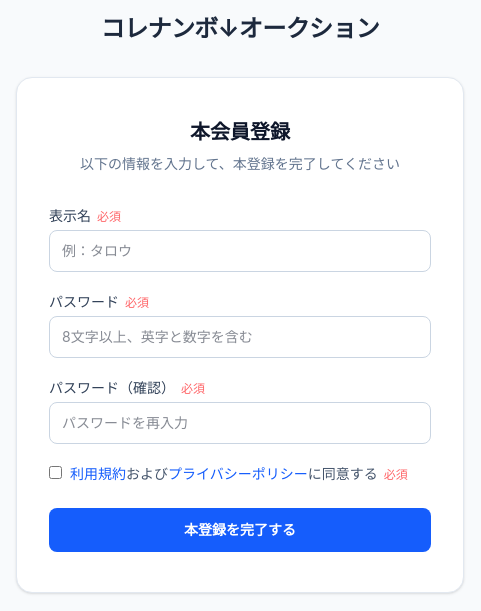
Test: UserRegistrationVerifyPage - POSTトークン致命的エラー › USED_REGISTRATION_TOKENのとき、会員登録済み画面が表示される
Click the button "本登録を完了する" at (240, 530), box 49,508 -> 431,552
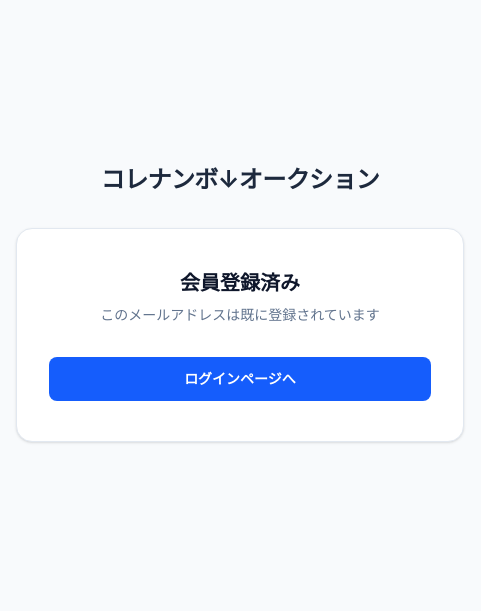
Now the heading "会員登録済み" is shown, box 180,271 -> 300,295
Now the text "このメールアドレスは既に登録されています" is shown, box 100,306 -> 380,323
